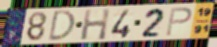2: (139, 6, 167, 39)
4: (109, 8, 132, 40)
8: (26, 11, 48, 42)
D: (46, 9, 77, 43)
H: (79, 7, 112, 41)
P: (164, 7, 194, 37)
